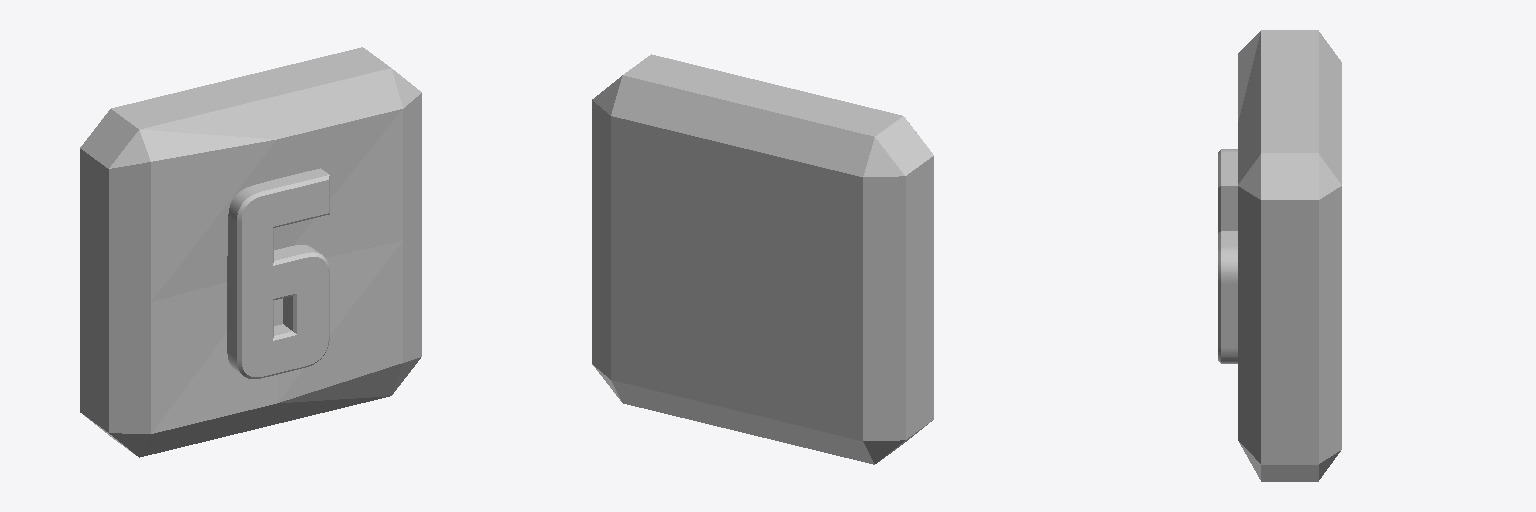
File: Lvl-6.obj
3 views of the same model, side by side, from view 1: azimuth 30°, elevation 25°; view 2: azimuth 150°, elevation 25°; view 3: azimuth 270°, elevation 25° (orthographic).
Parts seen in each view (by area): view 1: lvl-6_Cube.006; view 2: lvl-6_Cube.006; view 3: lvl-6_Cube.006.
Part boxes in pixels (x1,y1,x2,y2): lvl-6_Cube.006: (80, 47, 421, 457); lvl-6_Cube.006: (592, 54, 933, 464); lvl-6_Cube.006: (1218, 30, 1341, 481).
Size of the model in its own units: 1.28 by 1.28 by 0.4393.